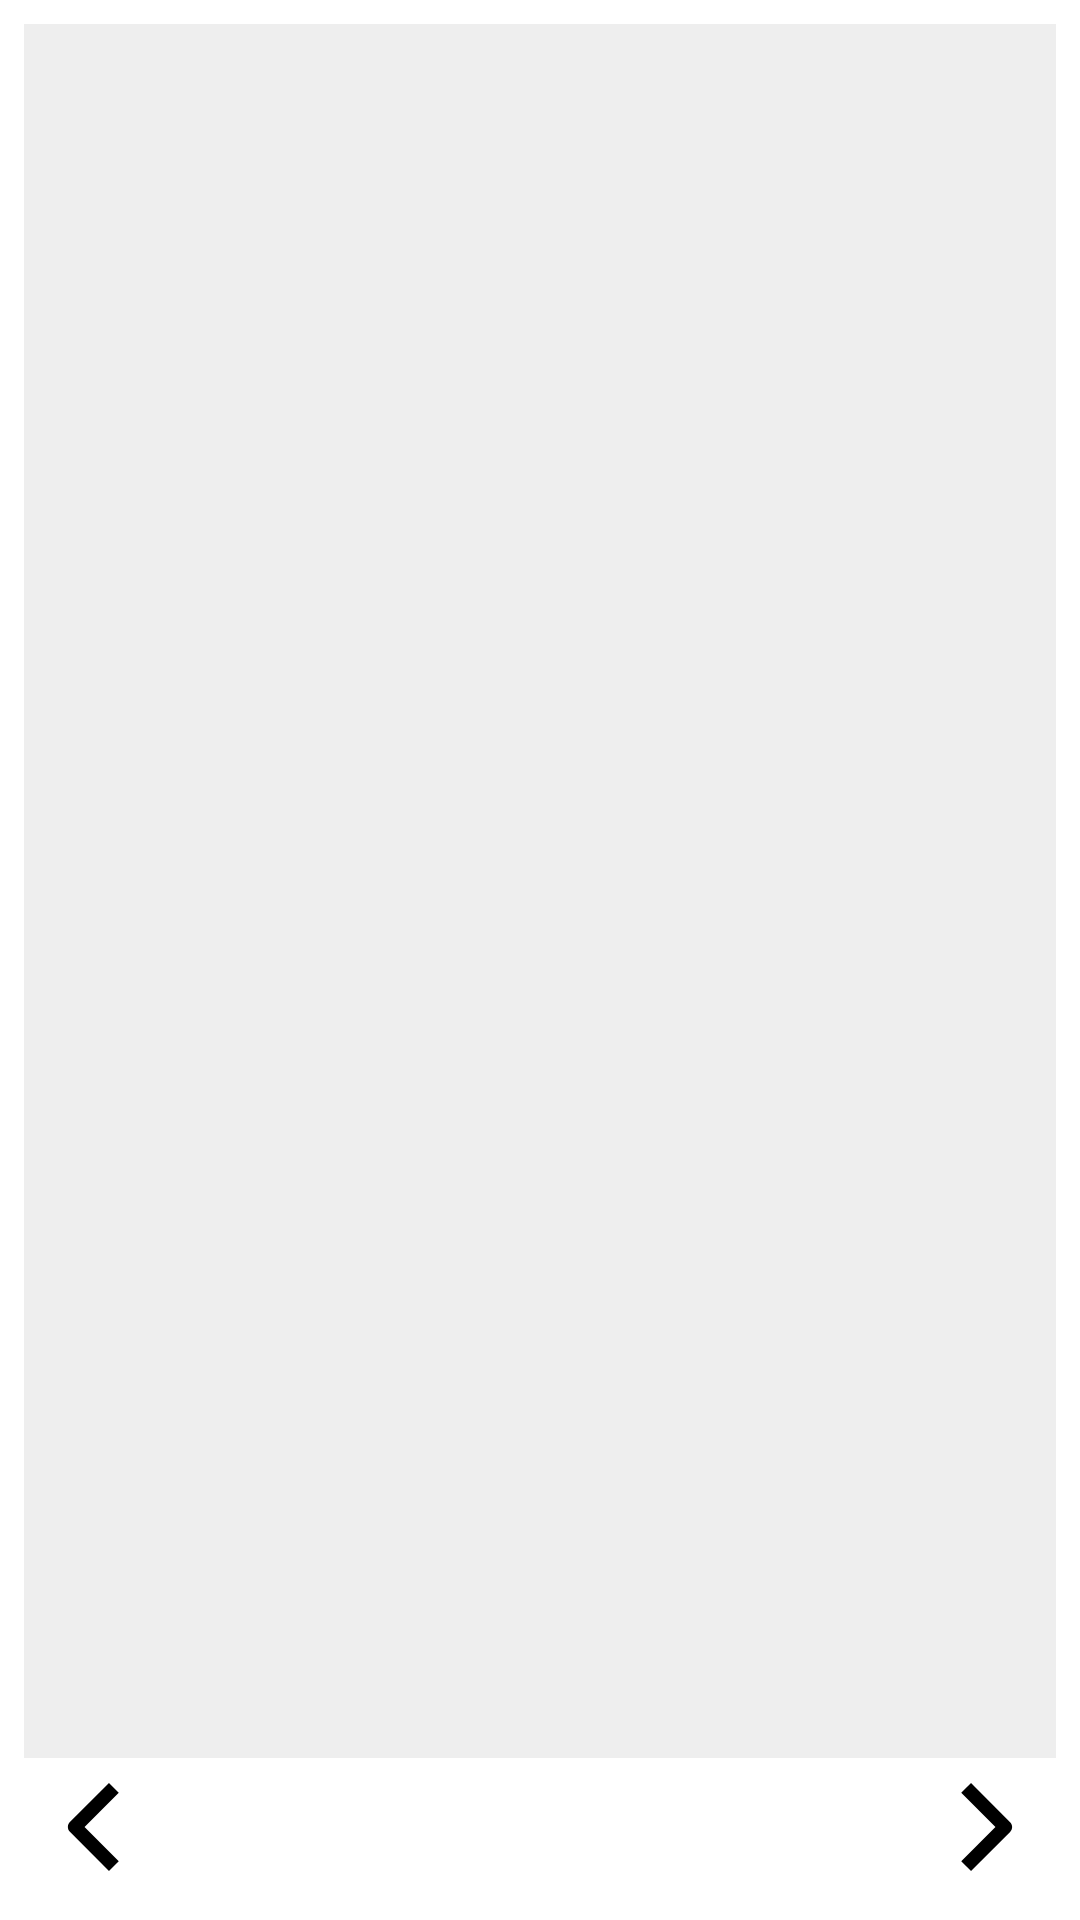

Point at icon controls on the screen. Image size 1080×1920, points as point (x, y).
back: point (93, 1827)
next: point (986, 1827)
